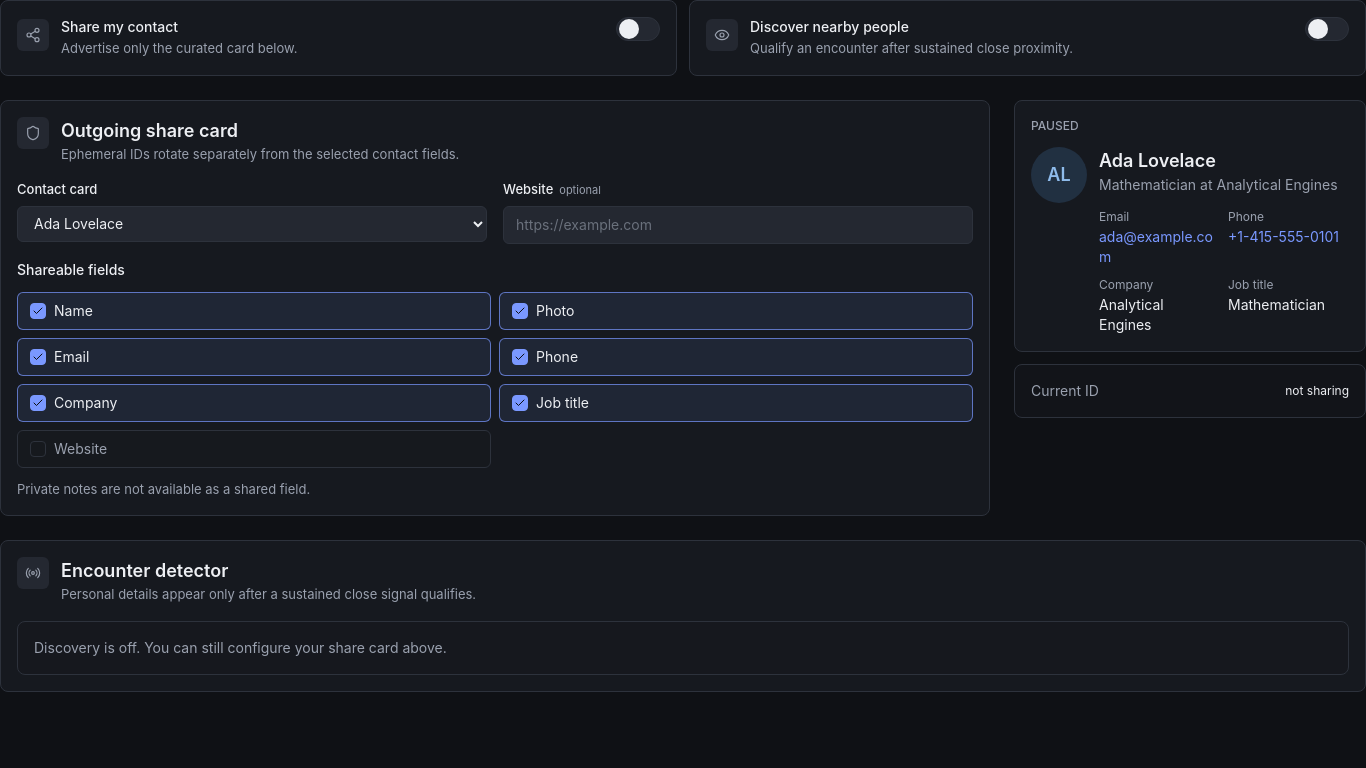
Test case: NearbyContactSharing › keeps sharing and discovery independent
Click the checkbox labelled "Share my contact Advertise only the curated card below.": [33, 35] box [0, 0, 677, 76]
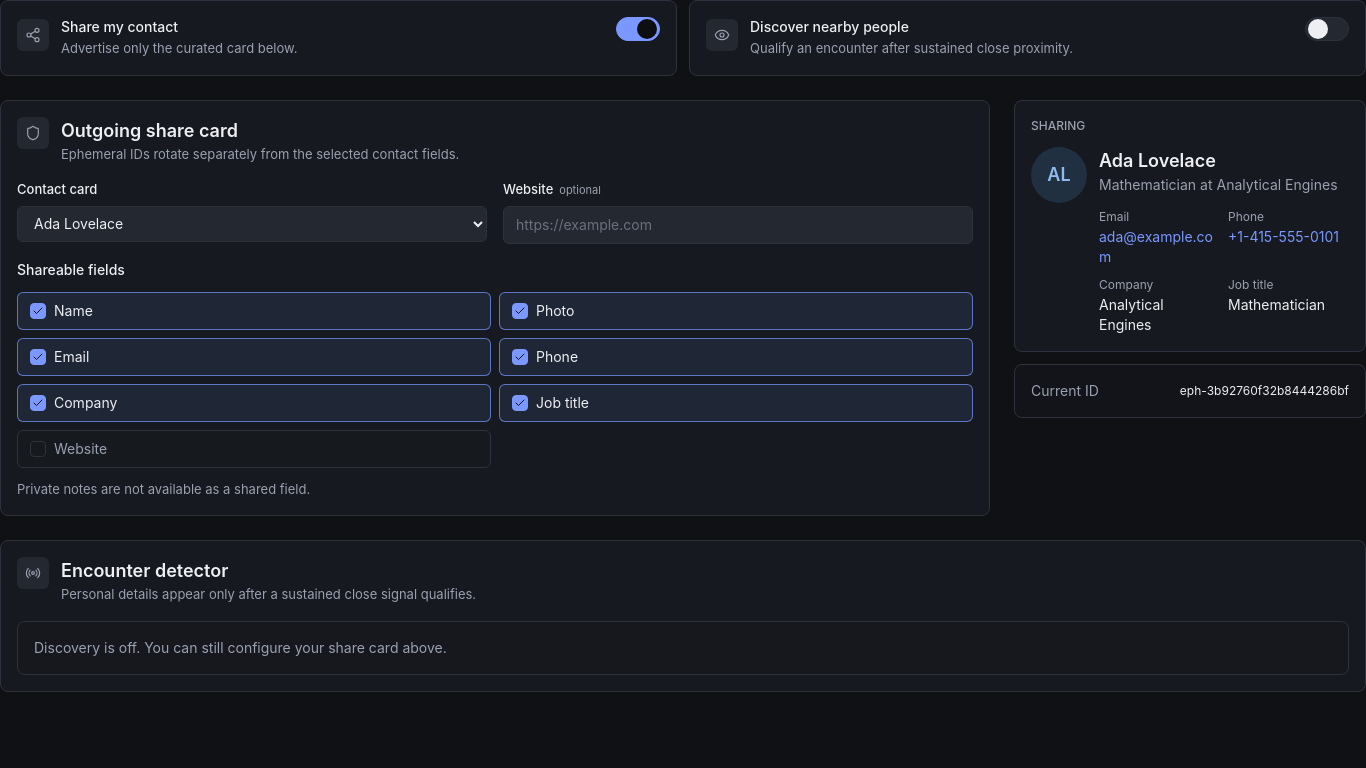
expect the checkbox labelled "Discover nearby people" is not checked: met, box [689, 0, 1365, 76]
expect the checkbox labelled "Share my contact Advertise only the curated card below." is checked: met, box [0, 0, 677, 76]
expect the text "not sharing" is gone: met
